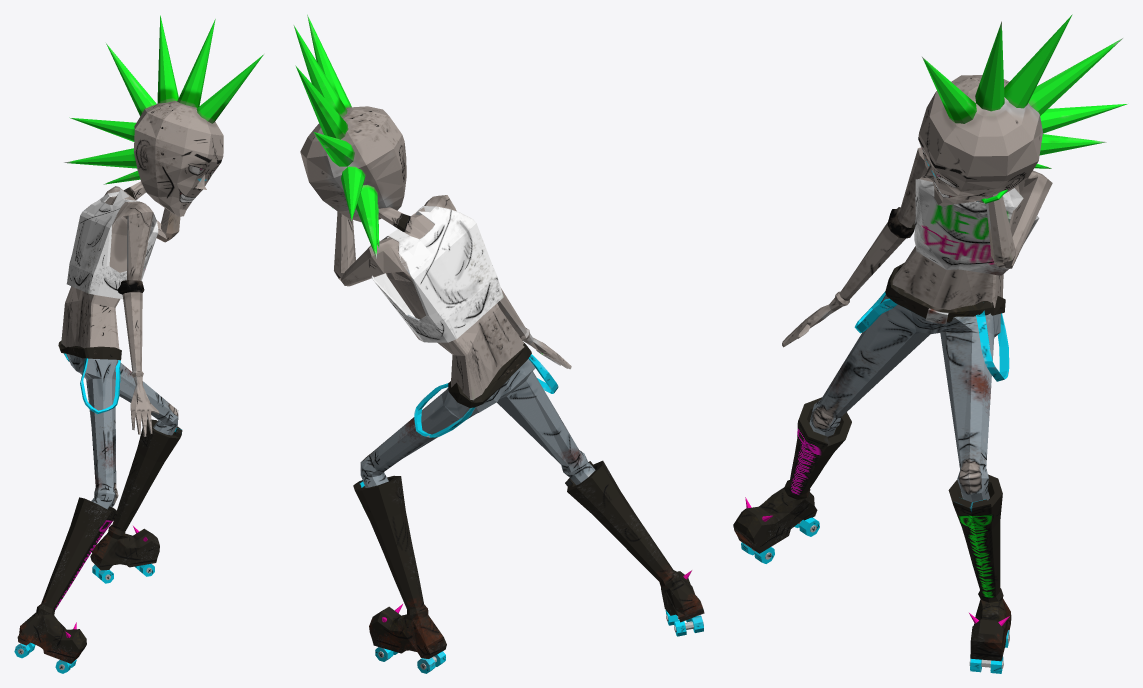
The model's file is punkAnimation_000001.obj.
3 renders of one model, left to right at view 1: azimuth 30°, elevation 25°; view 2: azimuth 150°, elevation 25°; view 3: azimuth 270°, elevation 25°, orthographic. The views are drawn at different scales.
Parts seen in each view (by area): view 1: Cube.004_Cube.003; view 2: Cube.004_Cube.003; view 3: Cube.004_Cube.003.
Part boxes in pixels (box(x1,y1,x2,y2)): Cube.004_Cube.003: box(14, 15, 263, 673); Cube.004_Cube.003: box(293, 14, 704, 673); Cube.004_Cube.003: box(733, 14, 1127, 673).
Bounding box in the file's own units: 3.82 × 6.54 × 3.35.
